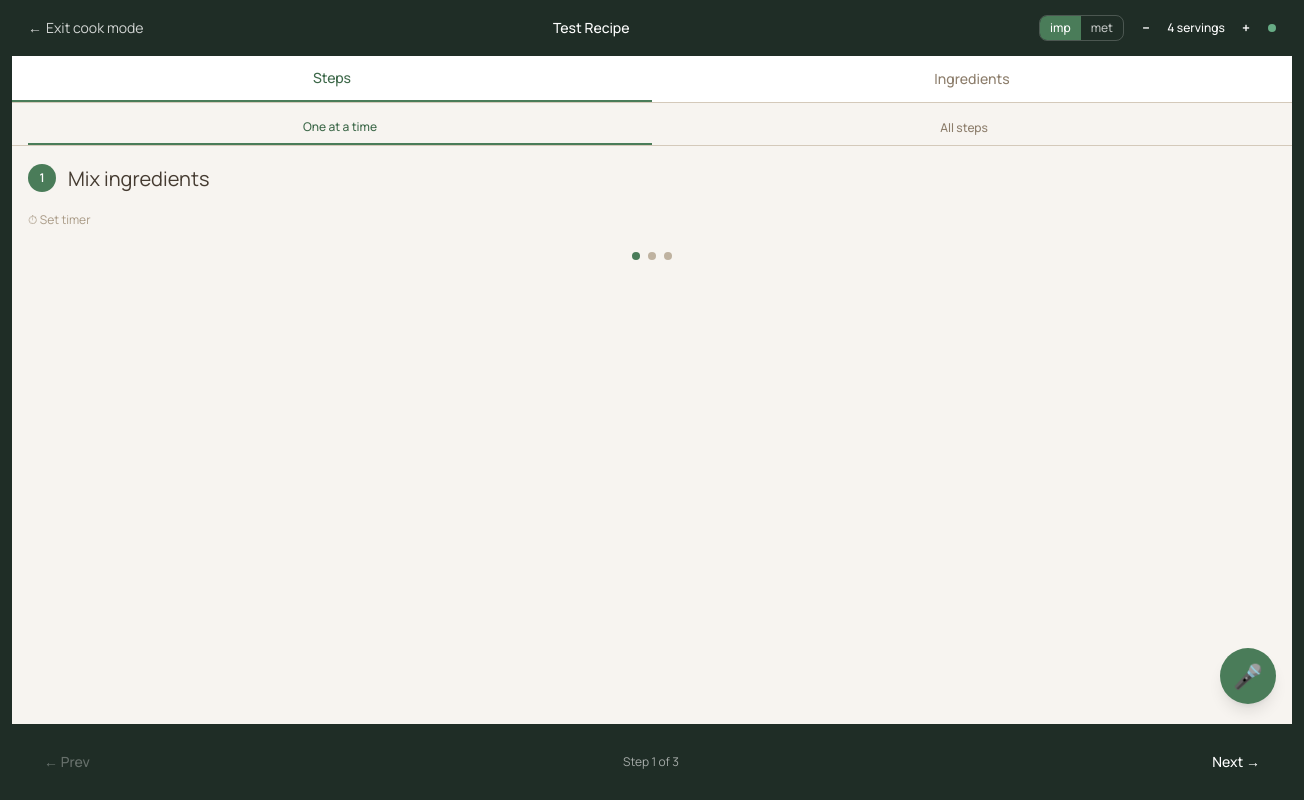
Scenario: T05 - "Next" advances step; indicator updates › clicking Next shows step 2
Click the button "Next →" at [1236, 762], box left=1196, top=740, right=1276, bottom=784
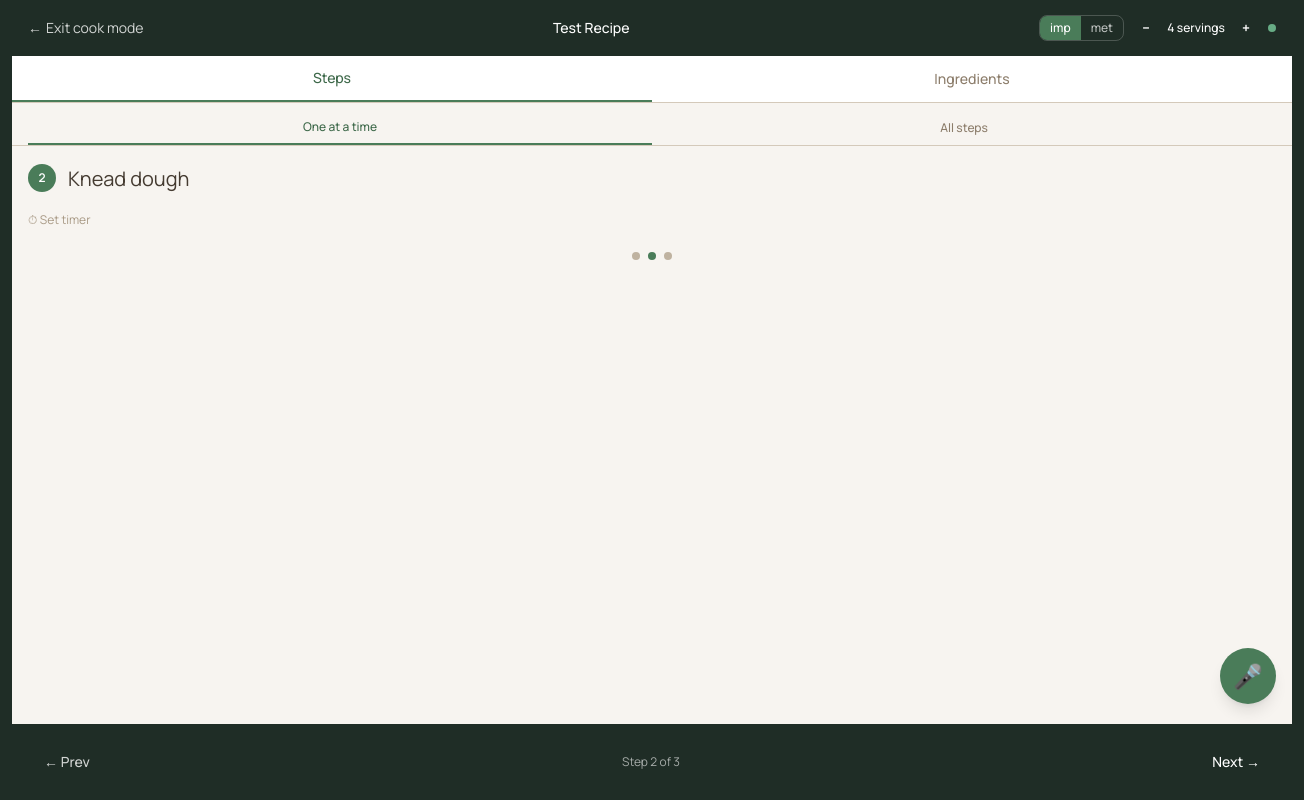
Check: the text "Knead dough" is shown, box left=68, top=162, right=189, bottom=196
Check: the text "Step 2 of 3" is shown, box left=622, top=754, right=680, bottom=770
